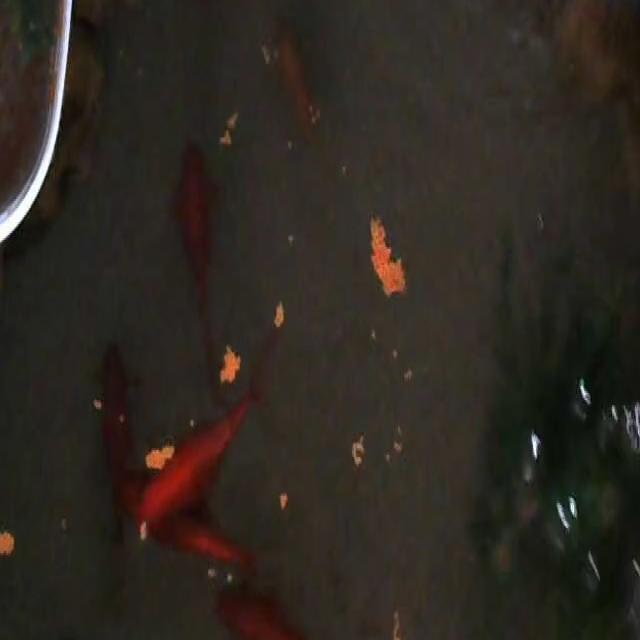fish: (130, 418, 282, 521), (176, 135, 237, 380), (85, 346, 139, 548), (268, 31, 338, 146), (150, 514, 287, 568), (213, 585, 336, 640)
